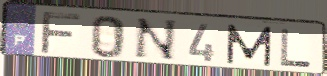0: (88, 14, 127, 59)
4: (187, 23, 217, 63)
F: (37, 10, 83, 56)
L: (279, 28, 314, 69)
M: (225, 23, 275, 67)
N: (131, 17, 179, 63)
